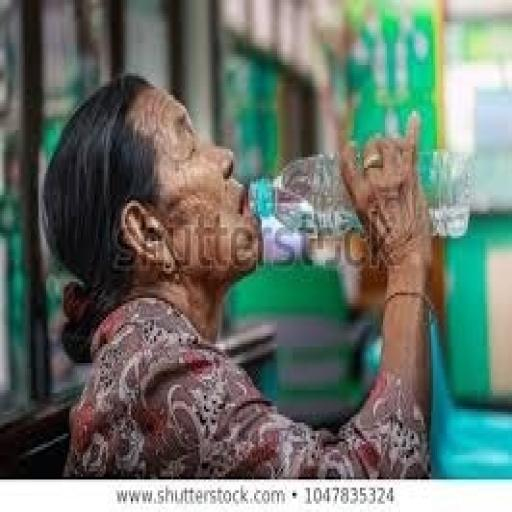drinking: (246, 144, 472, 244)
